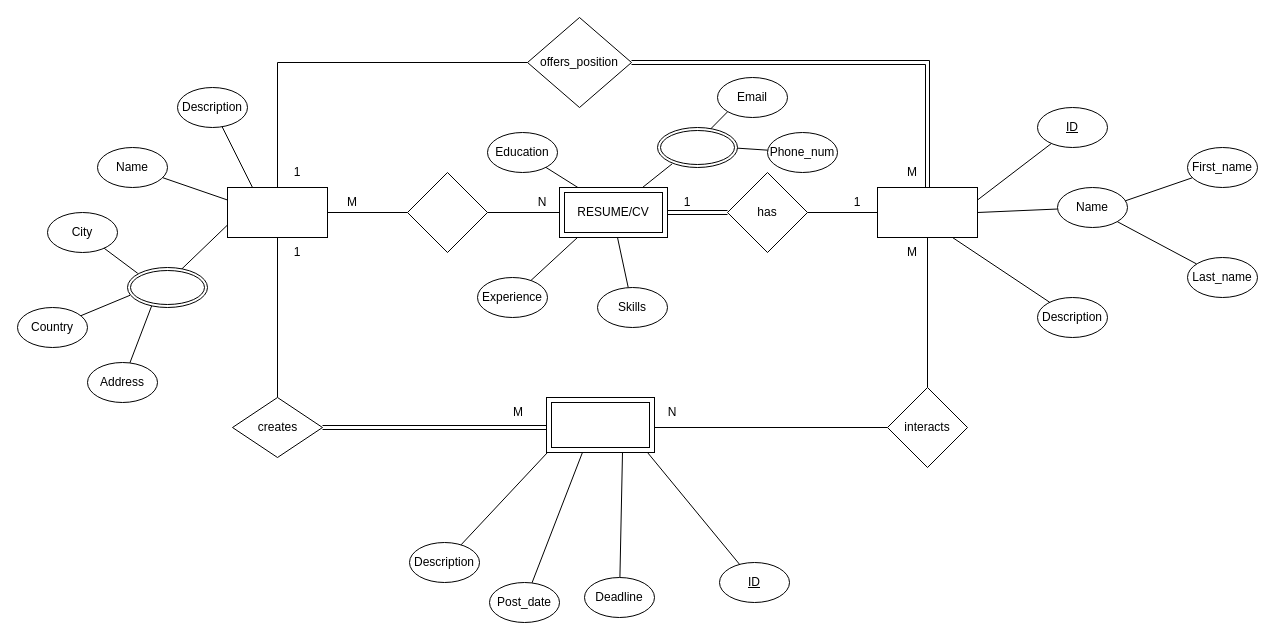
This 1275x640 diagram has some shape labels left out. The shapes that lost their labels are listed below. From the top down, each one's box as (x1, y1, x2, y2) in pixels, then its label:
(656, 126, 738, 168): Contact_info
(226, 186, 328, 238): COMPANY
(406, 172, 488, 252): review
(876, 186, 978, 238): FREELANCER
(126, 266, 208, 308): Location
(546, 396, 654, 452): JOB_POST
